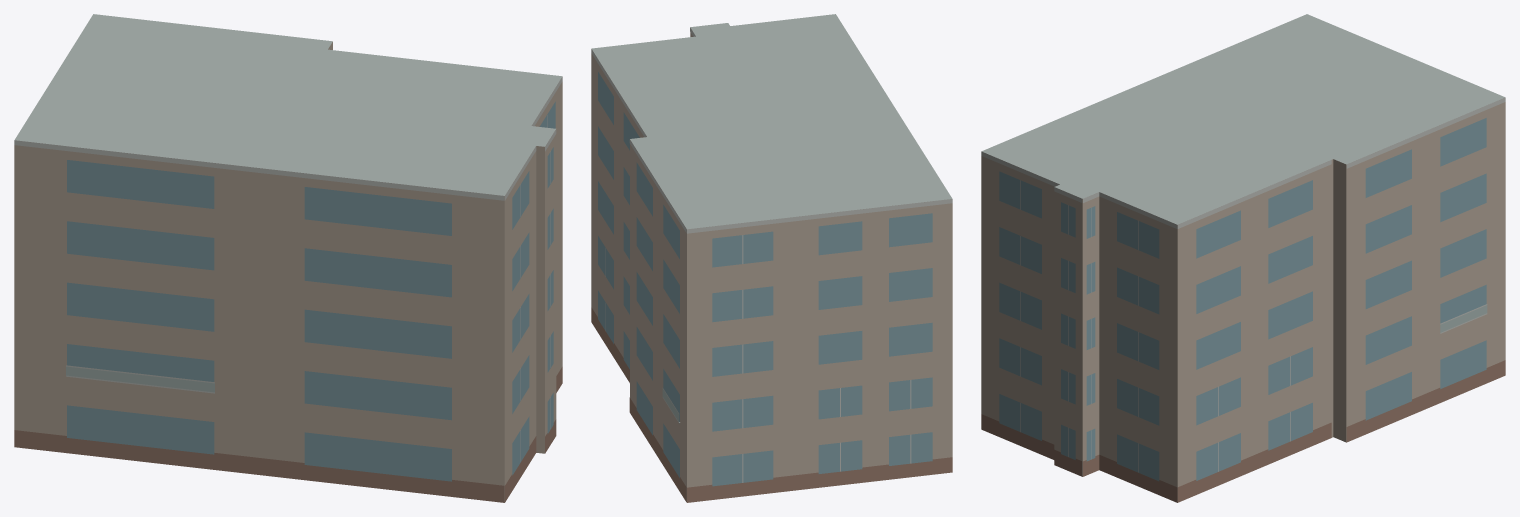
Rendered from survey-upis-32855473.glb.
The picture shows the model from 3 angles, left to right: view 1: azimuth 30°, elevation 25°; view 2: azimuth 150°, elevation 25°; view 3: azimuth 270°, elevation 25°; orthographic projection. The views are drawn at different scales.
Visible parts, largest first — view 1: survey-upis-32855473.tmp; view 2: survey-upis-32855473.tmp; view 3: survey-upis-32855473.tmp.
Boxes of the visible parts, x1,y1,x2,y2 form: survey-upis-32855473.tmp: (14,14,562,502); survey-upis-32855473.tmp: (591,14,952,502); survey-upis-32855473.tmp: (981,14,1505,502).
Bounding box in the file's own units: 24.88 × 15.3 × 26.15.
